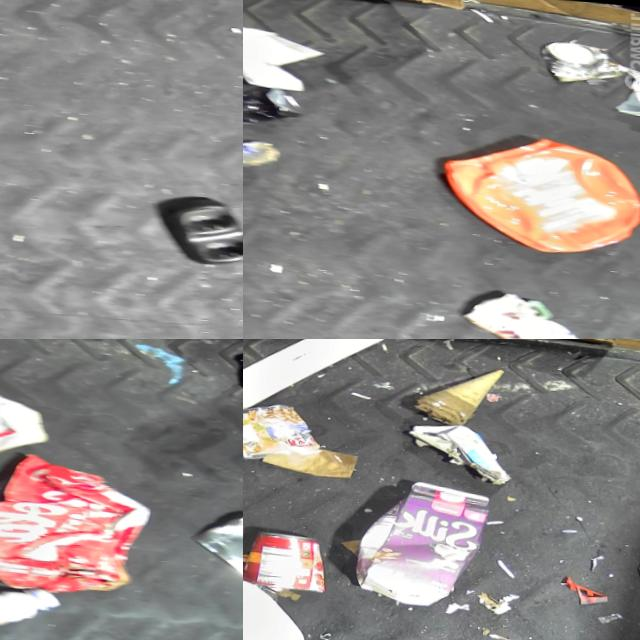can: (243, 524, 333, 593), (536, 28, 631, 79), (243, 75, 306, 140), (188, 499, 243, 572)
milk_jug: (243, 559, 311, 640)
non_white_jug: (432, 120, 640, 252)
plastic_bottle: (243, 120, 283, 166)
